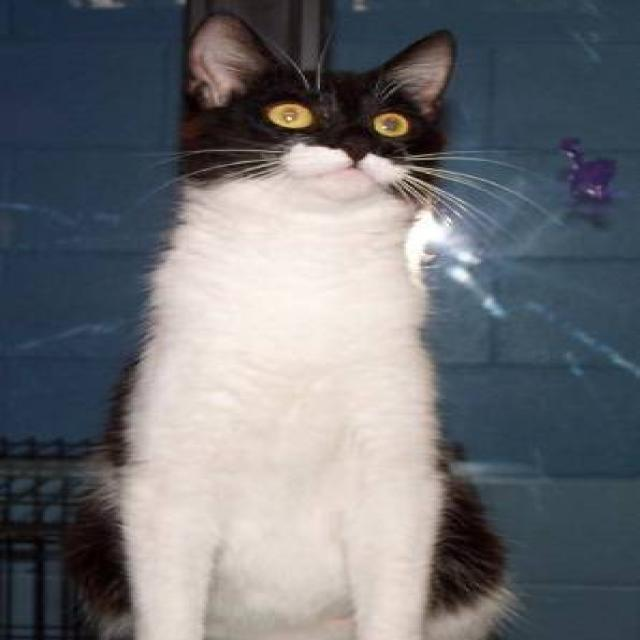cat: (60, 10, 561, 639)
